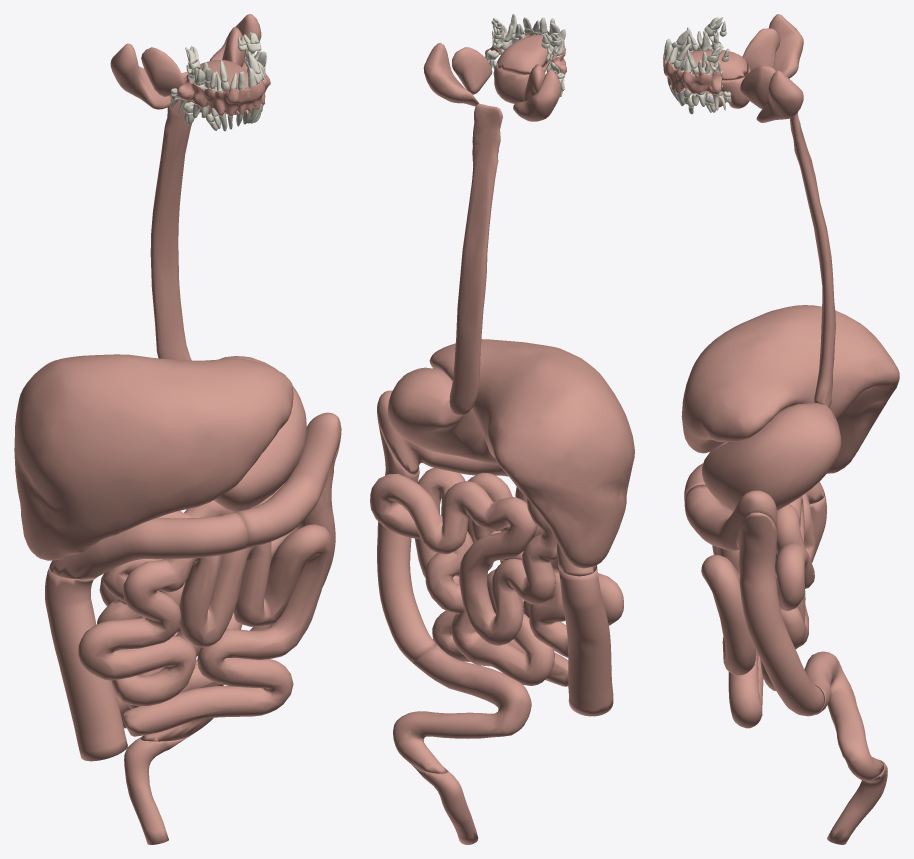
Rendered from pediatric_child_10y_male.digestive.LOD0.glb.
The picture shows the model from 3 angles, left to right: view 1: azimuth 30°, elevation 25°; view 2: azimuth 150°, elevation 25°; view 3: azimuth 270°, elevation 25°; orthographic projection. The views are drawn at different scales.
Visible parts, largest first — view 1: PEDIATRIC.CHILD_10Y.MALE.DIGESTIVE.LIVER, PEDIATRIC.CHILD_10Y.MALE.DIGESTIVE.SMALL_INTESTINE_WALL, PEDIATRIC.CHILD_10Y.MALE.DIGESTIVE.ASCENDING_COLON_WALL, PEDIATRIC.CHILD_10Y.MALE.DIGESTIVE.OESOPHAGUS_WALL, PEDIATRIC.CHILD_10Y.MALE.DIGESTIVE.TRANSVERSE_COLON_WALL.R, PEDIATRIC.CHILD_10Y.MALE.DIGESTIVE.TRANSVERSE_COLON_WALL.L, PEDIATRIC.CHILD_10Y.MALE.DIGESTIVE.STOMACH_WALL, PEDIATRIC.CHILD_10Y.MALE.DIGESTIVE.SALIVARY_GLANDS.R, PEDIATRIC.CHILD_10Y.MALE.DIGESTIVE.RECTUM_WALL, PEDIATRIC.CHILD_10Y.MALE.DIGESTIVE.PERMANENT_CEMENTUM, PEDIATRIC.CHILD_10Y.MALE.DIGESTIVE.ORAL_MUCOSA_LIP_AND_CHEEK, PEDIATRIC.CHILD_10Y.MALE.DIGESTIVE.DESCENDING_COLON_WALL (+3 smaller); view 2: PEDIATRIC.CHILD_10Y.MALE.DIGESTIVE.SMALL_INTESTINE_WALL, PEDIATRIC.CHILD_10Y.MALE.DIGESTIVE.LIVER, PEDIATRIC.CHILD_10Y.MALE.DIGESTIVE.OESOPHAGUS_WALL, PEDIATRIC.CHILD_10Y.MALE.DIGESTIVE.SIGMOID_COLON_WALL, PEDIATRIC.CHILD_10Y.MALE.DIGESTIVE.ASCENDING_COLON_WALL, PEDIATRIC.CHILD_10Y.MALE.DIGESTIVE.STOMACH_WALL, PEDIATRIC.CHILD_10Y.MALE.DIGESTIVE.DESCENDING_COLON_WALL, PEDIATRIC.CHILD_10Y.MALE.DIGESTIVE.SALIVARY_GLANDS.L, PEDIATRIC.CHILD_10Y.MALE.DIGESTIVE.TRANSVERSE_COLON_WALL.L, PEDIATRIC.CHILD_10Y.MALE.DIGESTIVE.RECTUM_WALL, PEDIATRIC.CHILD_10Y.MALE.DIGESTIVE.SALIVARY_GLANDS.R, PEDIATRIC.CHILD_10Y.MALE.DIGESTIVE.ORAL_MUCOSA_MOUTH_FLOOR (+2 smaller); view 3: PEDIATRIC.CHILD_10Y.MALE.DIGESTIVE.LIVER, PEDIATRIC.CHILD_10Y.MALE.DIGESTIVE.SMALL_INTESTINE_WALL, PEDIATRIC.CHILD_10Y.MALE.DIGESTIVE.STOMACH_WALL, PEDIATRIC.CHILD_10Y.MALE.DIGESTIVE.DESCENDING_COLON_WALL, PEDIATRIC.CHILD_10Y.MALE.DIGESTIVE.SIGMOID_COLON_WALL, PEDIATRIC.CHILD_10Y.MALE.DIGESTIVE.OESOPHAGUS_WALL, PEDIATRIC.CHILD_10Y.MALE.DIGESTIVE.TRANSVERSE_COLON_WALL.L, PEDIATRIC.CHILD_10Y.MALE.DIGESTIVE.SALIVARY_GLANDS.L, PEDIATRIC.CHILD_10Y.MALE.DIGESTIVE.SALIVARY_GLANDS.R, PEDIATRIC.CHILD_10Y.MALE.DIGESTIVE.PERMANENT_CEMENTUM, PEDIATRIC.CHILD_10Y.MALE.DIGESTIVE.RECTUM_WALL, PEDIATRIC.CHILD_10Y.MALE.DIGESTIVE.ORAL_MUCOSA_LIP_AND_CHEEK (+5 smaller).
Part boxes in pixels (left/top/right/bottom): PEDIATRIC.CHILD_10Y.MALE.DIGESTIVE.LIVER: left=14, top=354, right=293, bottom=560; PEDIATRIC.CHILD_10Y.MALE.DIGESTIVE.SMALL_INTESTINE_WALL: left=78, top=483, right=332, bottom=736; PEDIATRIC.CHILD_10Y.MALE.DIGESTIVE.ASCENDING_COLON_WALL: left=45, top=568, right=127, bottom=761; PEDIATRIC.CHILD_10Y.MALE.DIGESTIVE.OESOPHAGUS_WALL: left=150, top=69, right=191, bottom=360; PEDIATRIC.CHILD_10Y.MALE.DIGESTIVE.TRANSVERSE_COLON_WALL.R: left=49, top=512, right=247, bottom=579; PEDIATRIC.CHILD_10Y.MALE.DIGESTIVE.TRANSVERSE_COLON_WALL.L: left=234, top=412, right=341, bottom=549; PEDIATRIC.CHILD_10Y.MALE.DIGESTIVE.STOMACH_WALL: left=214, top=356, right=306, bottom=511; PEDIATRIC.CHILD_10Y.MALE.DIGESTIVE.SALIVARY_GLANDS.R: left=110, top=43, right=225, bottom=114; PEDIATRIC.CHILD_10Y.MALE.DIGESTIVE.RECTUM_WALL: left=124, top=737, right=188, bottom=844; PEDIATRIC.CHILD_10Y.MALE.DIGESTIVE.PERMANENT_CEMENTUM: left=171, top=32, right=266, bottom=131; PEDIATRIC.CHILD_10Y.MALE.DIGESTIVE.ORAL_MUCOSA_LIP_AND_CHEEK: left=177, top=62, right=270, bottom=116; PEDIATRIC.CHILD_10Y.MALE.DIGESTIVE.DESCENDING_COLON_WALL: left=250, top=438, right=340, bottom=630; PEDIATRIC.CHILD_10Y.MALE.DIGESTIVE.SMALL_INTESTINE_WALL: left=370, top=468, right=623, bottom=686; PEDIATRIC.CHILD_10Y.MALE.DIGESTIVE.LIVER: left=429, top=339, right=634, bottom=568; PEDIATRIC.CHILD_10Y.MALE.DIGESTIVE.OESOPHAGUS_WALL: left=449, top=104, right=502, bottom=415; PEDIATRIC.CHILD_10Y.MALE.DIGESTIVE.SIGMOID_COLON_WALL: left=393, top=644, right=531, bottom=773; PEDIATRIC.CHILD_10Y.MALE.DIGESTIVE.ASCENDING_COLON_WALL: left=559, top=566, right=613, bottom=716; PEDIATRIC.CHILD_10Y.MALE.DIGESTIVE.STOMACH_WALL: left=387, top=367, right=497, bottom=464; PEDIATRIC.CHILD_10Y.MALE.DIGESTIVE.DESCENDING_COLON_WALL: left=377, top=419, right=436, bottom=662; PEDIATRIC.CHILD_10Y.MALE.DIGESTIVE.SALIVARY_GLANDS.L: left=423, top=43, right=492, bottom=106; PEDIATRIC.CHILD_10Y.MALE.DIGESTIVE.TRANSVERSE_COLON_WALL.L: left=377, top=390, right=508, bottom=476; PEDIATRIC.CHILD_10Y.MALE.DIGESTIVE.RECTUM_WALL: left=412, top=765, right=478, bottom=844; PEDIATRIC.CHILD_10Y.MALE.DIGESTIVE.SALIVARY_GLANDS.R: left=513, top=64, right=561, bottom=121; PEDIATRIC.CHILD_10Y.MALE.DIGESTIVE.ORAL_MUCOSA_MOUTH_FLOOR: left=496, top=35, right=548, bottom=74; PEDIATRIC.CHILD_10Y.MALE.DIGESTIVE.LIVER: left=681, top=305, right=899, bottom=473; PEDIATRIC.CHILD_10Y.MALE.DIGESTIVE.SMALL_INTESTINE_WALL: left=701, top=492, right=815, bottom=728; PEDIATRIC.CHILD_10Y.MALE.DIGESTIVE.STOMACH_WALL: left=702, top=403, right=841, bottom=511; PEDIATRIC.CHILD_10Y.MALE.DIGESTIVE.DESCENDING_COLON_WALL: left=736, top=512, right=825, bottom=716; PEDIATRIC.CHILD_10Y.MALE.DIGESTIVE.SIGMOID_COLON_WALL: left=804, top=651, right=884, bottom=781; PEDIATRIC.CHILD_10Y.MALE.DIGESTIVE.OESOPHAGUS_WALL: left=790, top=112, right=835, bottom=407; PEDIATRIC.CHILD_10Y.MALE.DIGESTIVE.TRANSVERSE_COLON_WALL.L: left=684, top=484, right=777, bottom=550; PEDIATRIC.CHILD_10Y.MALE.DIGESTIVE.SALIVARY_GLANDS.L: left=705, top=65, right=803, bottom=122; PEDIATRIC.CHILD_10Y.MALE.DIGESTIVE.SALIVARY_GLANDS.R: left=742, top=14, right=803, bottom=78; PEDIATRIC.CHILD_10Y.MALE.DIGESTIVE.PERMANENT_CEMENTUM: left=664, top=17, right=731, bottom=114; PEDIATRIC.CHILD_10Y.MALE.DIGESTIVE.RECTUM_WALL: left=827, top=760, right=887, bottom=844; PEDIATRIC.CHILD_10Y.MALE.DIGESTIVE.ORAL_MUCOSA_LIP_AND_CHEEK: left=663, top=42, right=722, bottom=94.
Bounding box in the file's own units: 0.22 × 0.6191 × 0.1637.
